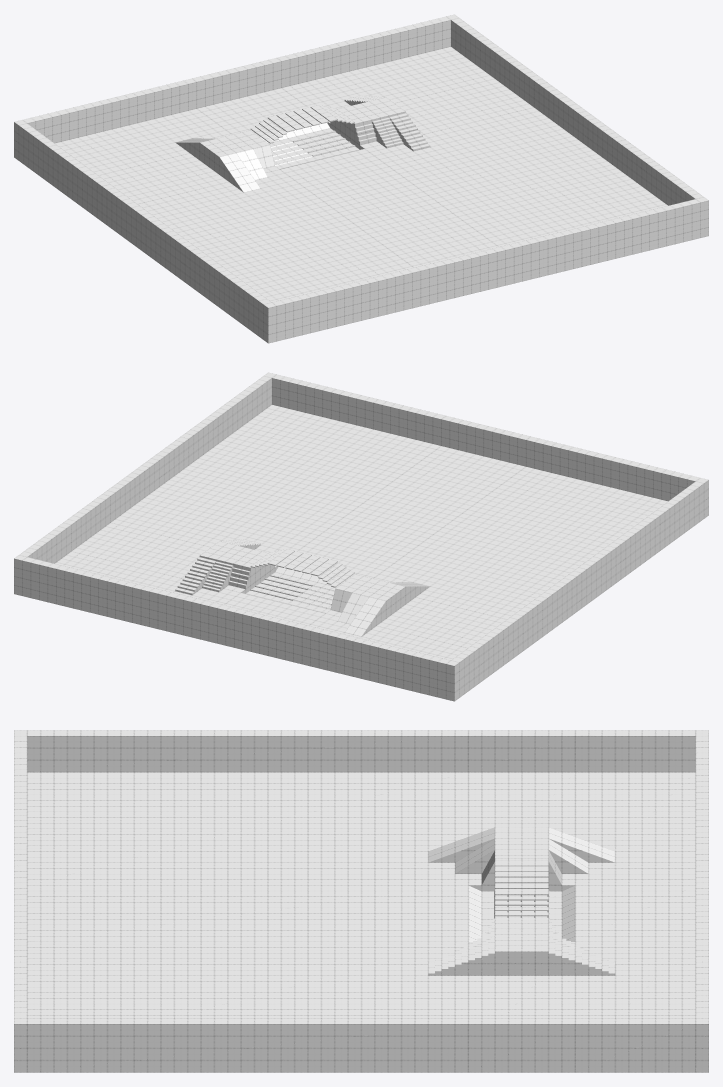
Rendered from testMap.glb.
3 views of the same model, one above another, from view 1: azimuth 30°, elevation 25°; view 2: azimuth 150°, elevation 25°; view 3: azimuth 270°, elevation 25° (orthographic). The views are drawn at different scales.
Parts seen in each view (by area): view 1: Floor.002, SlopeStair.002, Floor.003; view 2: Floor.002, SlopeStair.002, Floor.003; view 3: Floor.002, SlopeStair.002.
Part boxes in pixels (x1,y1,x2,y2): Floor.002: (14,14,708,343); SlopeStair.002: (175,95,430,192); Floor.003: (271,130,355,165); Floor.002: (14,372,708,701); SlopeStair.002: (175,539,429,636); Floor.003: (250,574,334,609); Floor.002: (14,730,708,1072); SlopeStair.002: (428,827,615,975).
Bounding box in the file's own units: 52 × 4 × 52.
1 material, 1 textured.
